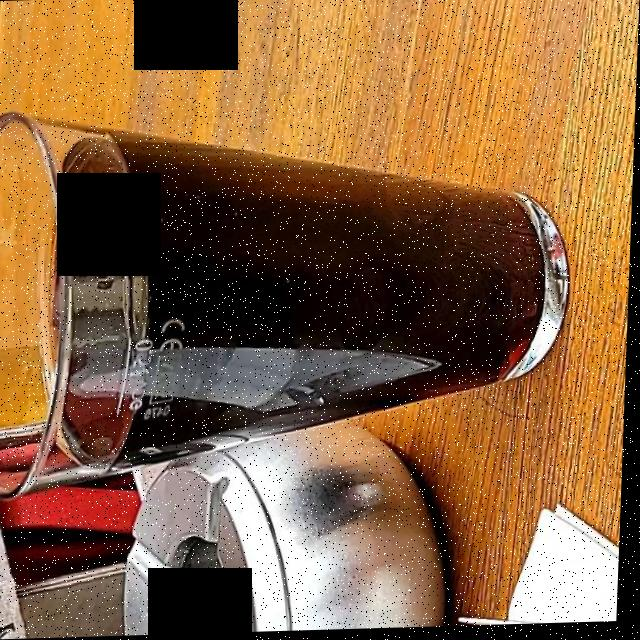coca-cola: (54, 142, 540, 465)
